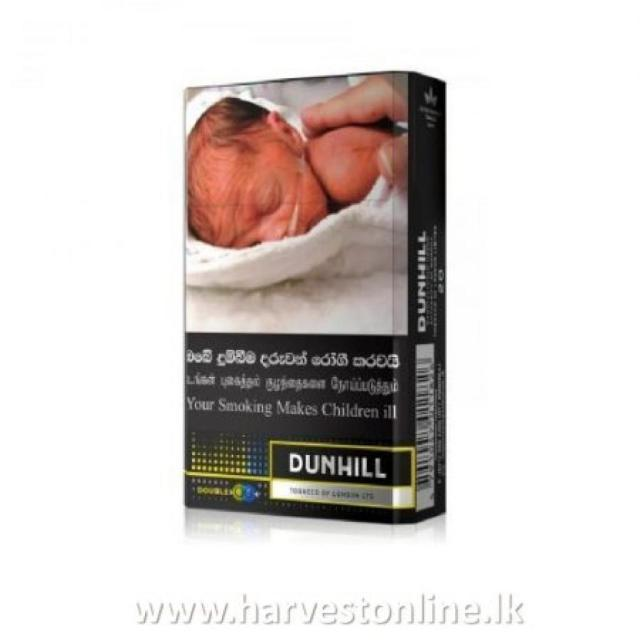smoking: (186, 69, 449, 523)
